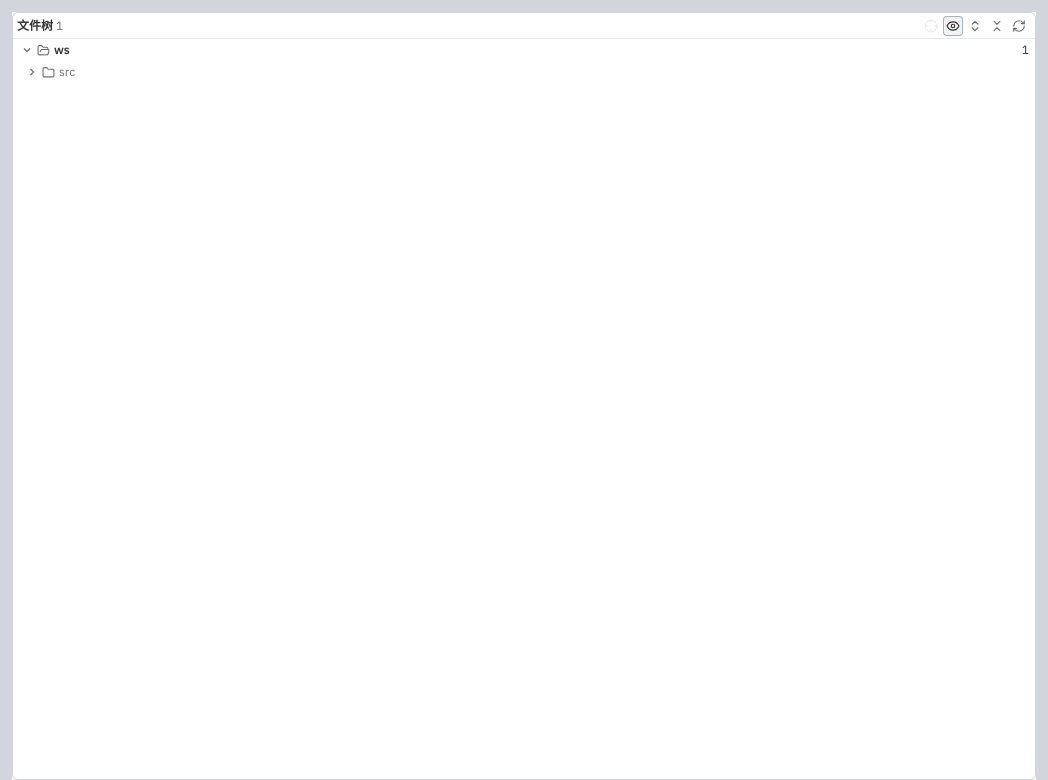
Test: FileTree › 双击目录行切换展开（等价于点 chevron；不打开文件 tab）
The width and height of the screenshot is (1048, 780).
Check: the list item "b.ts" is not shown
双击目录行 → 展开（触发懒加载）
Double-click the list item "src" at (48, 72), box [13,61,1035,83]
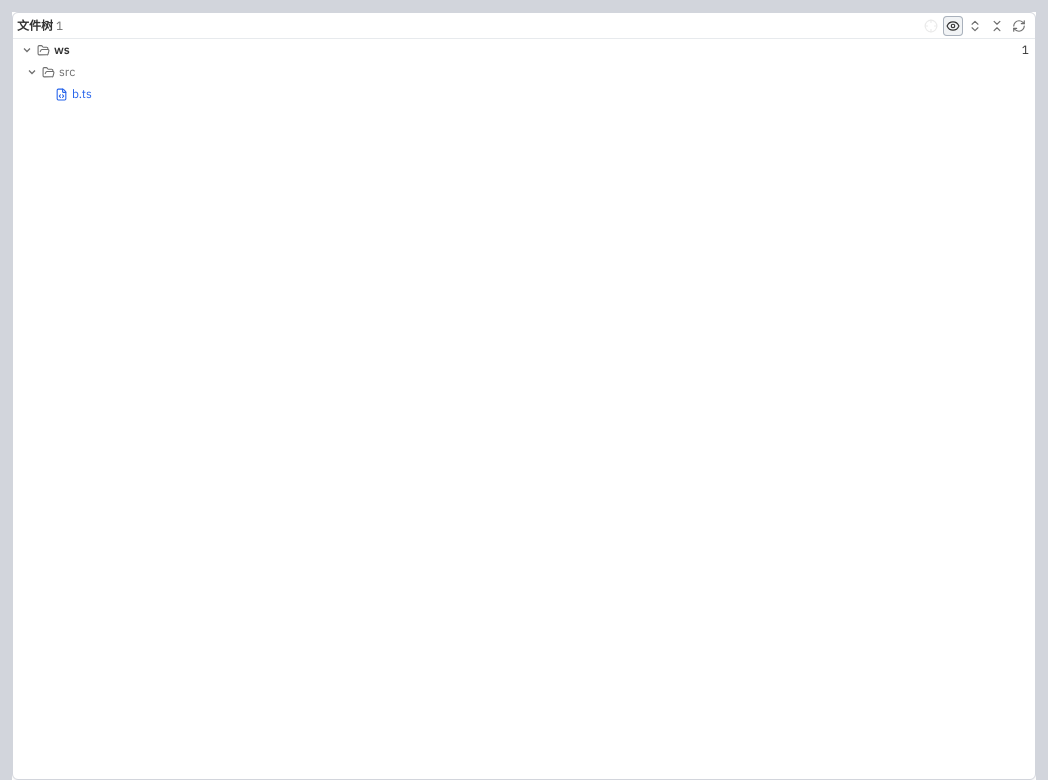
Check: the list item "b.ts" is shown, box [13,83,1035,105]
双击再次 → 折叠
Double-click the list item "src" at (48, 72), box [13,61,1035,83]
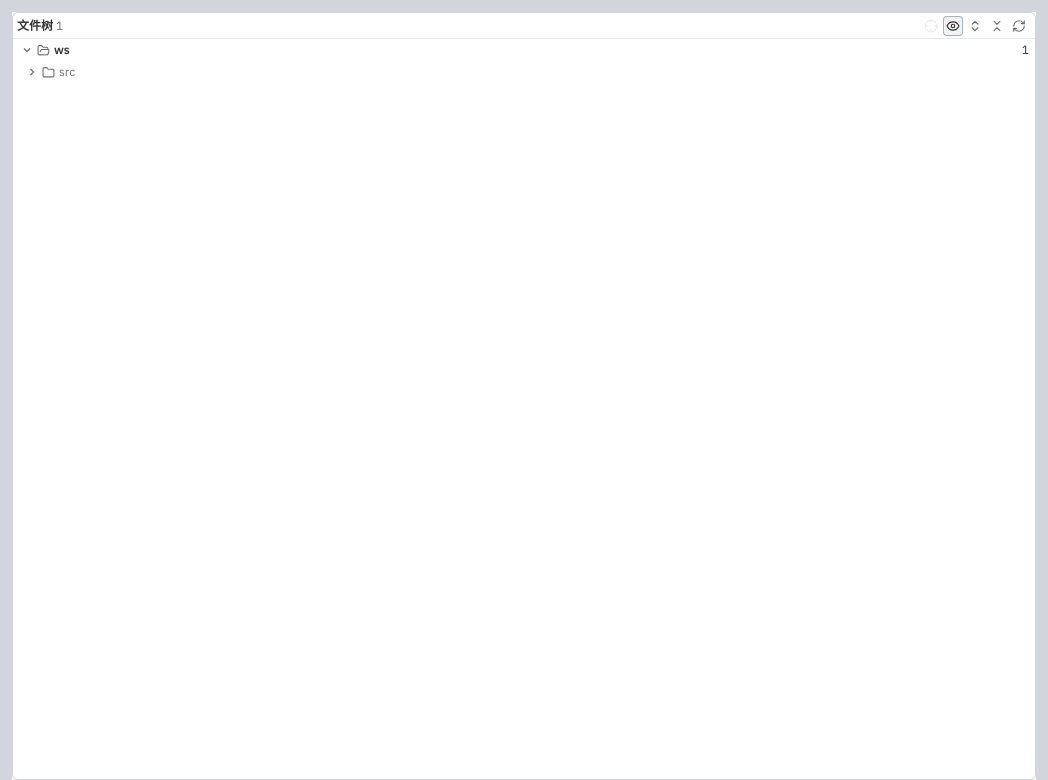
Check: the list item "b.ts" is gone
